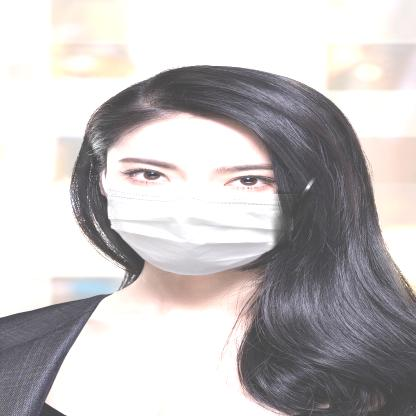dress: (97, 168, 300, 283)
